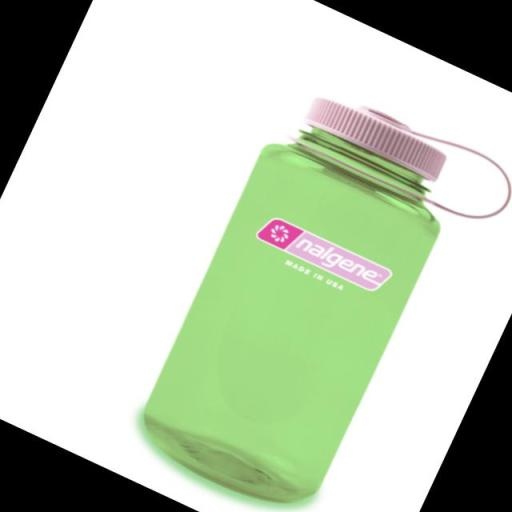bottle: (121, 65, 512, 512)
